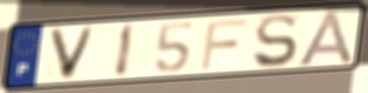5: (153, 20, 196, 74)
A: (293, 9, 356, 68)
F: (198, 17, 250, 71)
I: (113, 22, 137, 79)
S: (251, 12, 300, 70)
V: (46, 25, 99, 83)
